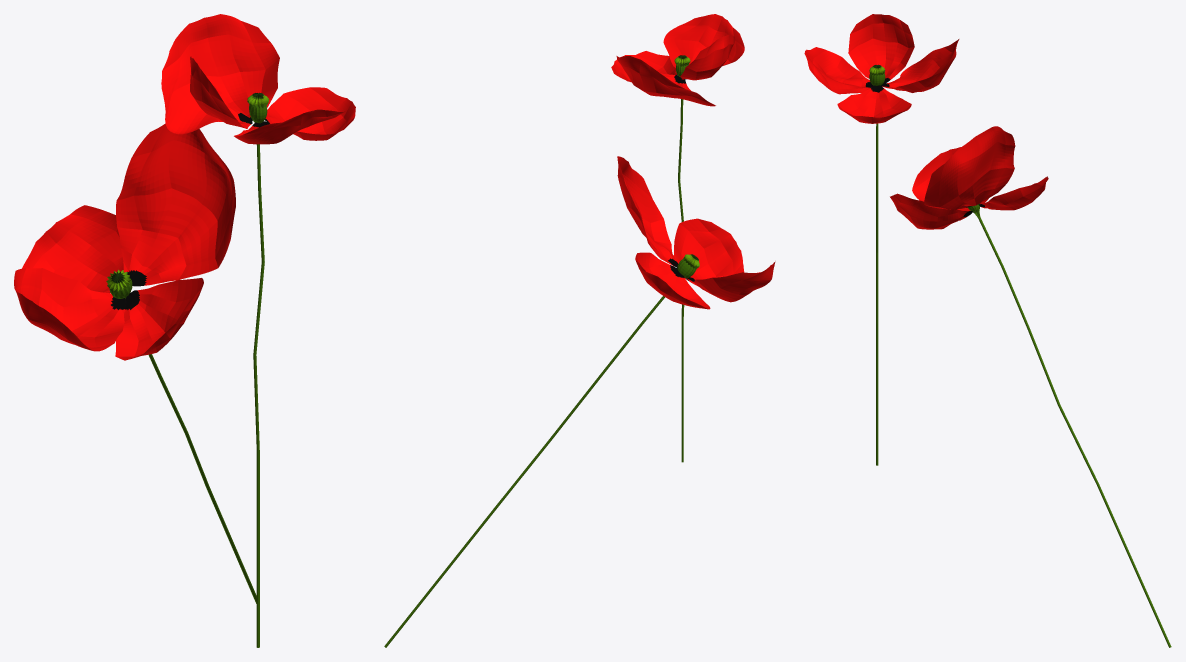
File: poppies.glb
The picture shows the model from 3 angles, left to right: view 1: azimuth 30°, elevation 25°; view 2: azimuth 150°, elevation 25°; view 3: azimuth 270°, elevation 25°; orthographic projection. The views are drawn at different scales.
Visible parts, largest first — view 1: Plane.004, Plane, Plane.007, Plane.006, Plane.005, Plane.001, Sphere, Sphere.001, Plane.002, Plane.003; view 2: Plane.005, Plane.004, Plane.003, Plane.006, Plane, Sphere.001, Plane.007, Plane.002, Sphere, Plane.001; view 3: Plane.004, Plane.002, Plane.003, Plane.001, Plane, Sphere.001, Plane.005, Sphere, Plane.006, Plane.007.
Part boxes in pixels (box(x1,y1,x2,y2)): Plane.004: box(116, 123, 235, 286); Plane: box(161, 14, 279, 134); Plane.007: box(14, 268, 126, 351); Plane.006: box(22, 205, 123, 293); Plane.005: box(115, 278, 203, 360); Plane.001: box(265, 87, 355, 140); Sphere: box(247, 92, 268, 647); Sphere.001: box(106, 269, 256, 603); Plane.002: box(190, 56, 252, 128); Plane.003: box(234, 109, 345, 144); Plane.005: box(673, 218, 744, 286); Plane.004: box(617, 156, 678, 267); Plane.003: box(663, 14, 744, 67); Plane.006: box(635, 252, 710, 309); Plane: box(616, 56, 715, 106); Sphere.001: box(384, 254, 699, 647); Plane.007: box(686, 261, 775, 302); Plane.002: box(680, 34, 734, 80); Sphere: box(674, 55, 690, 462); Plane.001: box(611, 51, 677, 82); Plane.004: box(924, 126, 1015, 209); Plane.002: box(848, 14, 914, 84); Plane.003: box(804, 47, 872, 94); Plane.001: box(837, 85, 911, 123); Plane: box(881, 39, 959, 92); Sphere.001: box(967, 203, 1171, 647); Plane.005: box(890, 193, 972, 229); Sphere: box(869, 64, 885, 465); Plane.006: box(978, 176, 1048, 210); Plane.007: box(912, 147, 988, 210).
Bounding box in the file's own units: 13.16 × 24.71 × 15.17.
